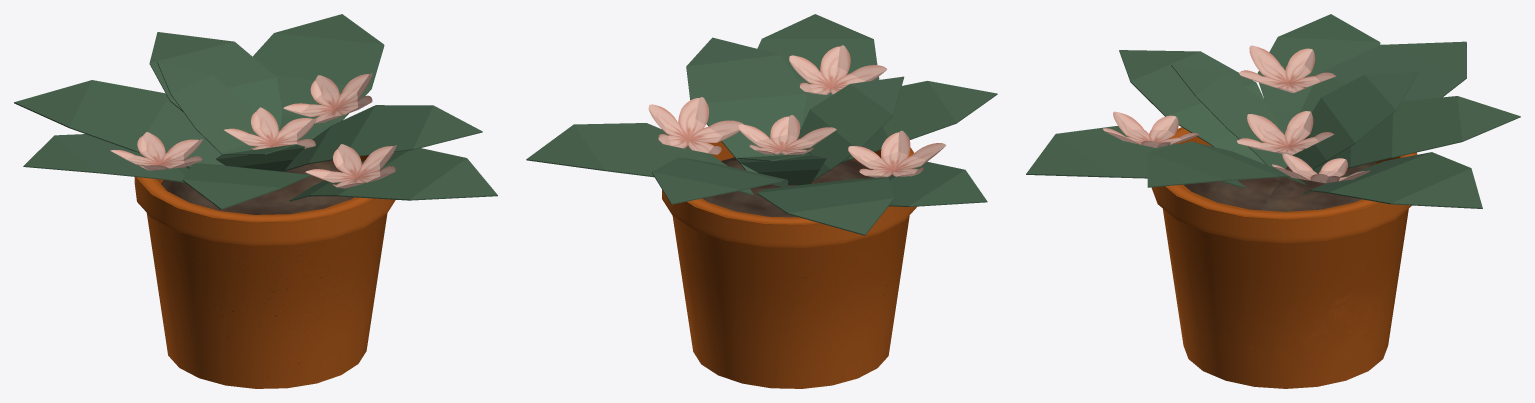
Rendered from Flowers.fbx.
3 views of the same model, side by side, from view 1: azimuth 30°, elevation 25°; view 2: azimuth 150°, elevation 25°; view 3: azimuth 270°, elevation 25° (orthographic). The views are drawn at different scales.
Parts seen in each view (by area): view 1: flower_pot, pointyleaf_2, pointyleaf_9, pointyleaf_11, pointyleaf_10, pointyleaf_12, pointyleaf_14, pointyleaf_16, pointyleaf_13, dirt_in_pot, flower_3a4, flower_3a6 (+7 smaller); view 2: flower_pot, pointyleaf_11, pointyleaf_9, pointyleaf_15, pointyleaf_2, pointyleaf_13, pointyleaf_10, pointyleaf_12, pointyleaf_16, flower_3a4, flower_3a6, flower_3a8 (+7 smaller); view 3: flower_pot, pointyleaf_12, pointyleaf_13, pointyleaf_9, pointyleaf_2, pointyleaf_14, pointyleaf_10, pointyleaf_16, pointyleaf_11, dirt_in_pot, pointyleaf_15, flower_3a8 (+6 smaller).
Part boxes in pixels (x1=…): flower_pot: x1=134, y1=155, x2=395, y2=388; pointyleaf_2: x1=14, y1=80, x2=224, y2=167; pointyleaf_9: x1=252, y1=14, x2=384, y2=140; pointyleaf_11: x1=284, y1=105, x2=482, y2=171; pointyleaf_10: x1=289, y1=148, x2=497, y2=201; pointyleaf_12: x1=149, y1=32, x2=282, y2=131; pointyleaf_14: x1=157, y1=62, x2=259, y2=154; pointyleaf_16: x1=23, y1=134, x2=188, y2=182; pointyleaf_13: x1=182, y1=163, x2=310, y2=209; dirt_in_pot: x1=161, y1=160, x2=353, y2=214; flower_3a4: x1=283, y1=72, x2=372, y2=123; flower_3a6: x1=305, y1=144, x2=396, y2=188; flower_pot: x1=662, y1=141, x2=916, y2=388; pointyleaf_11: x1=686, y1=37, x2=807, y2=172; pointyleaf_9: x1=526, y1=123, x2=753, y2=195; pointyleaf_15: x1=797, y1=76, x2=904, y2=181; pointyleaf_2: x1=757, y1=178, x2=894, y2=235; pointyleaf_13: x1=839, y1=81, x2=997, y2=163; pointyleaf_10: x1=757, y1=14, x2=879, y2=124; pointyleaf_12: x1=652, y1=157, x2=788, y2=204; pointyleaf_16: x1=873, y1=161, x2=987, y2=206; flower_3a4: x1=648, y1=97, x2=743, y2=154; flower_3a6: x1=789, y1=45, x2=887, y2=94; flower_3a8: x1=848, y1=130, x2=946, y2=177; flower_pot: x1=1151, y1=127, x2=1417, y2=388; pointyleaf_12: x1=1308, y1=96, x2=1520, y2=181; pointyleaf_13: x1=1119, y1=50, x2=1265, y2=164; pointyleaf_9: x1=1303, y1=152, x2=1482, y2=208; pointyleaf_2: x1=1300, y1=41, x2=1466, y2=112; pointyleaf_14: x1=1292, y1=72, x2=1418, y2=169; pointyleaf_10: x1=1026, y1=126, x2=1245, y2=188; pointyleaf_16: x1=1257, y1=14, x2=1380, y2=134; pointyleaf_11: x1=1147, y1=141, x2=1307, y2=187; dirt_in_pot: x1=1183, y1=162, x2=1376, y2=211; pointyleaf_15: x1=1171, y1=65, x2=1287, y2=169; flower_3a8: x1=1239, y1=45, x2=1336, y2=92.
Size of the model in its own units: 86.3 by 51.92 by 92.34.
